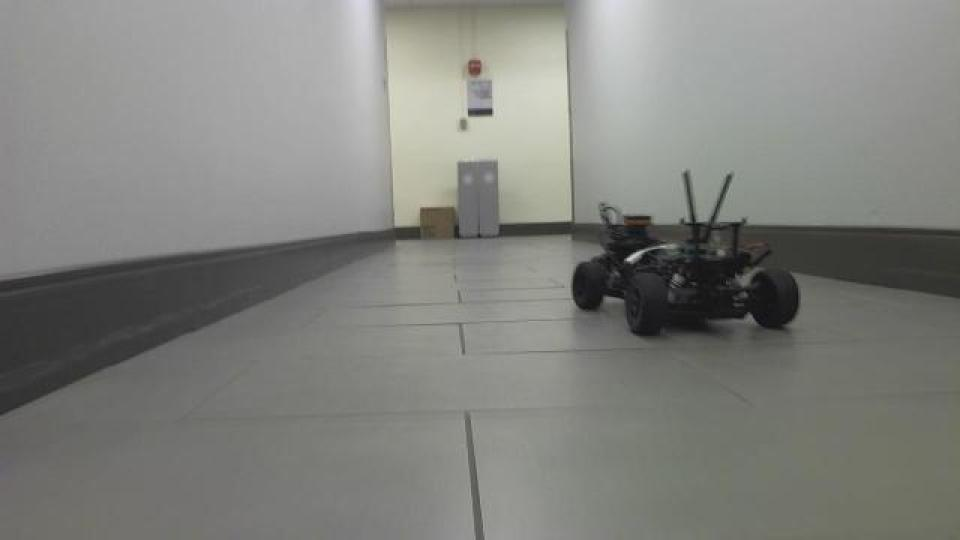car: (567, 167, 803, 339)
